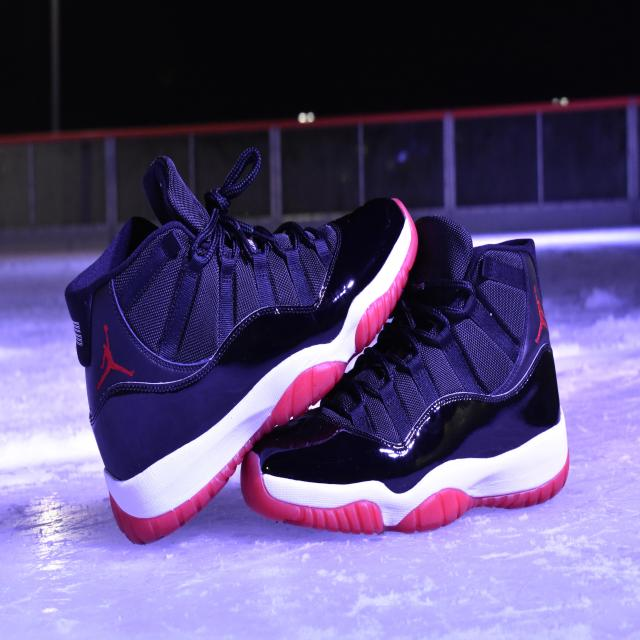shoe: (50, 140, 430, 558), (235, 198, 587, 548)
